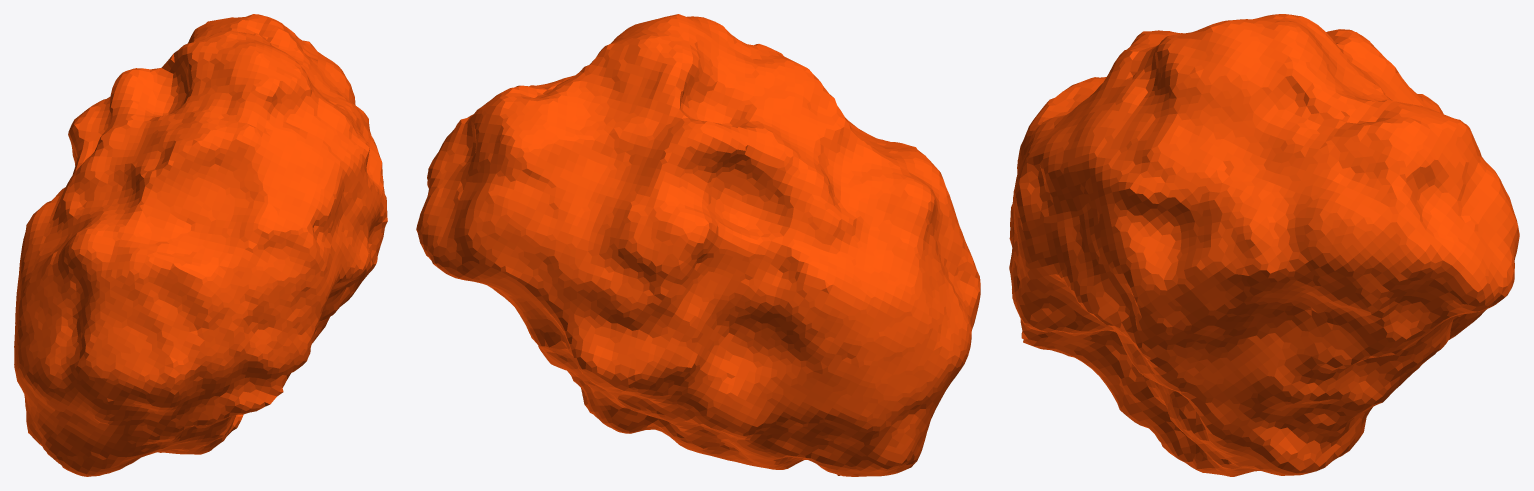
The model's file is Asteroid_4.glb.
The picture shows the model from 3 angles, left to right: view 1: azimuth 30°, elevation 25°; view 2: azimuth 150°, elevation 25°; view 3: azimuth 270°, elevation 25°; orthographic projection. The views are drawn at different scales.
Parts seen in each view (by area): view 1: ASTEROID_LOW_POLY_4_; view 2: ASTEROID_LOW_POLY_4_; view 3: ASTEROID_LOW_POLY_4_.
Part boxes in pixels (bbox=[...]): ASTEROID_LOW_POLY_4_: bbox=[14, 14, 387, 476]; ASTEROID_LOW_POLY_4_: bbox=[416, 14, 980, 476]; ASTEROID_LOW_POLY_4_: bbox=[1009, 14, 1519, 476].
Bounding box in the file's own units: 1.56 × 1.47 × 1.41.
1 material, 1 textured.
